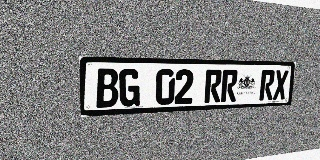0: (155, 69, 175, 105)
2: (174, 69, 194, 104)
B: (96, 68, 118, 108)
G: (119, 69, 140, 107)
R: (204, 69, 222, 103), (221, 70, 238, 102), (259, 70, 275, 100)
X: (273, 70, 288, 100)
